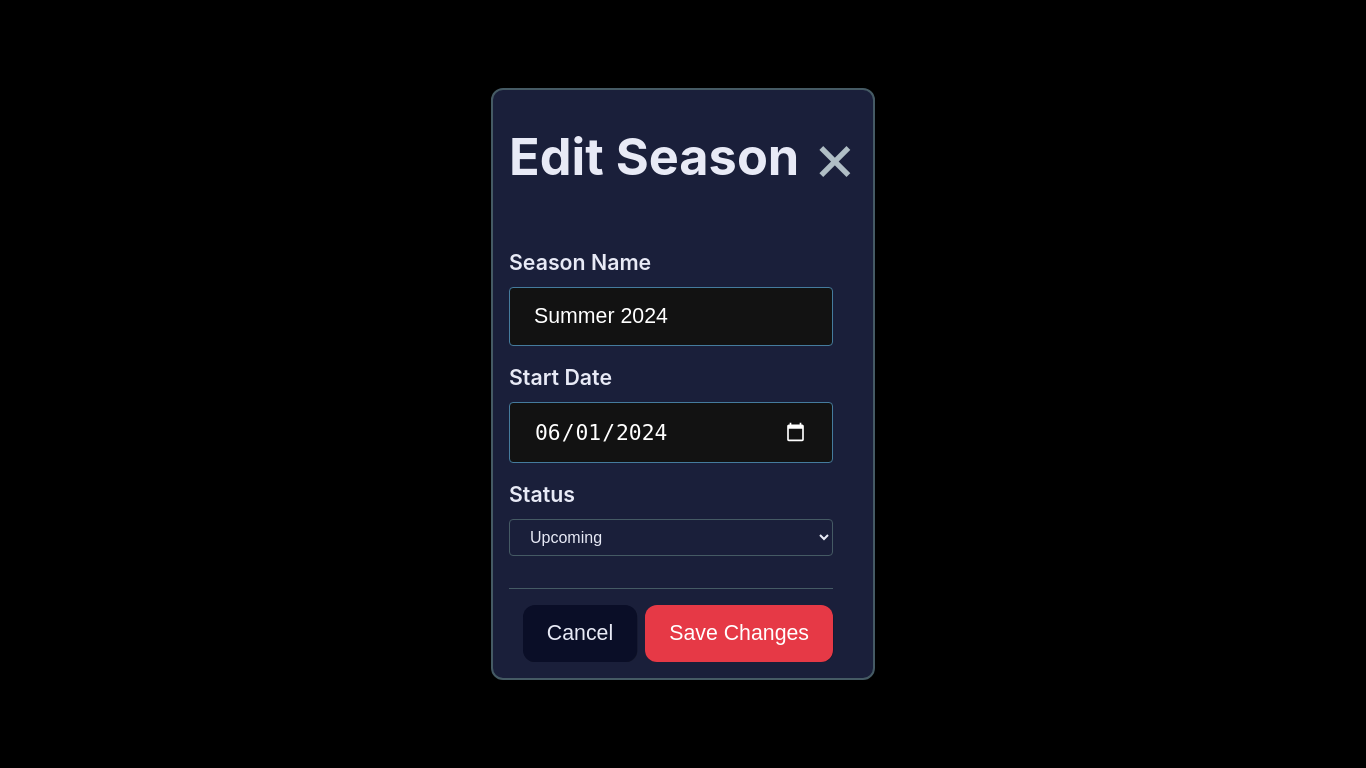
Test: EditSeasonModal Component › shows an error message when updateSeason fails
This screenshot has width=1366, height=768.
Click the button "Save Changes".
click(739, 634)  # box [645, 605, 833, 662]
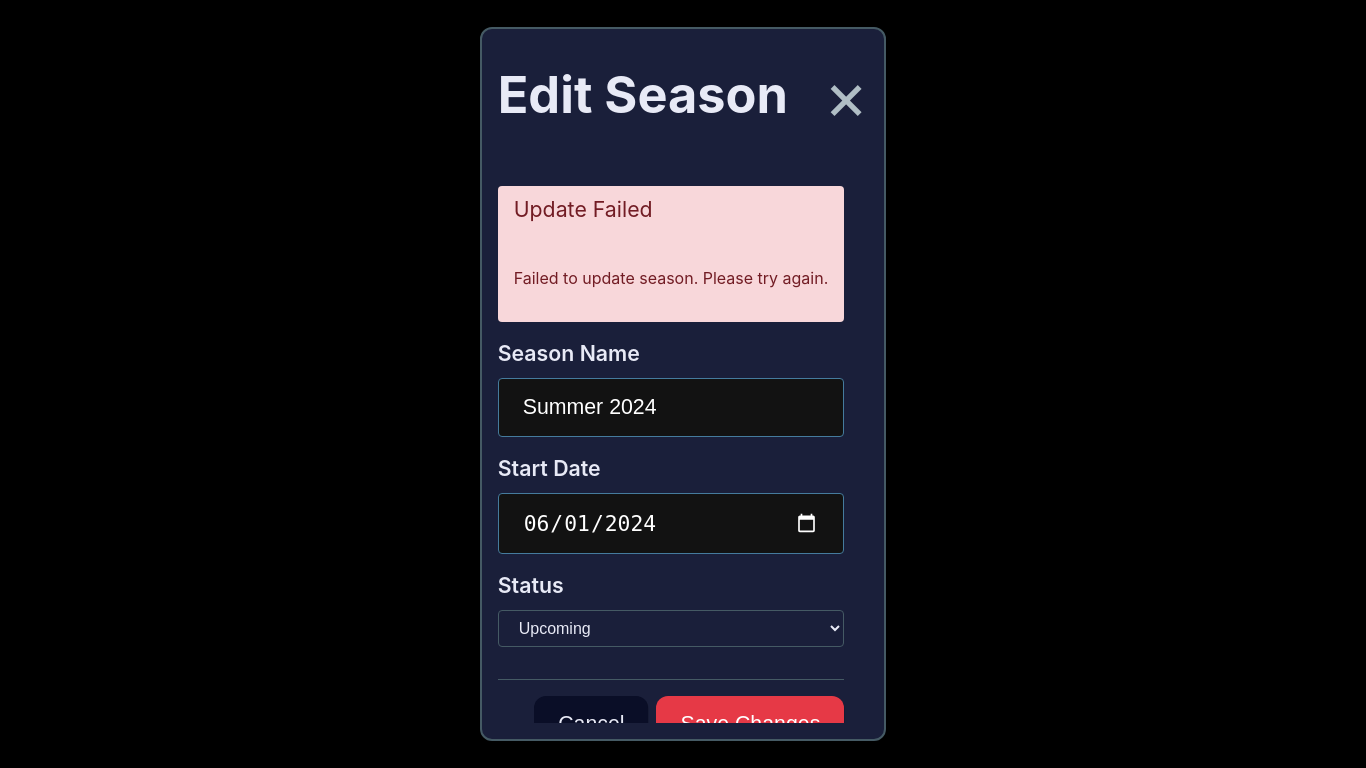
Check: the text "Failed to update season. Please try again." is shown, box [514, 268, 828, 288]
